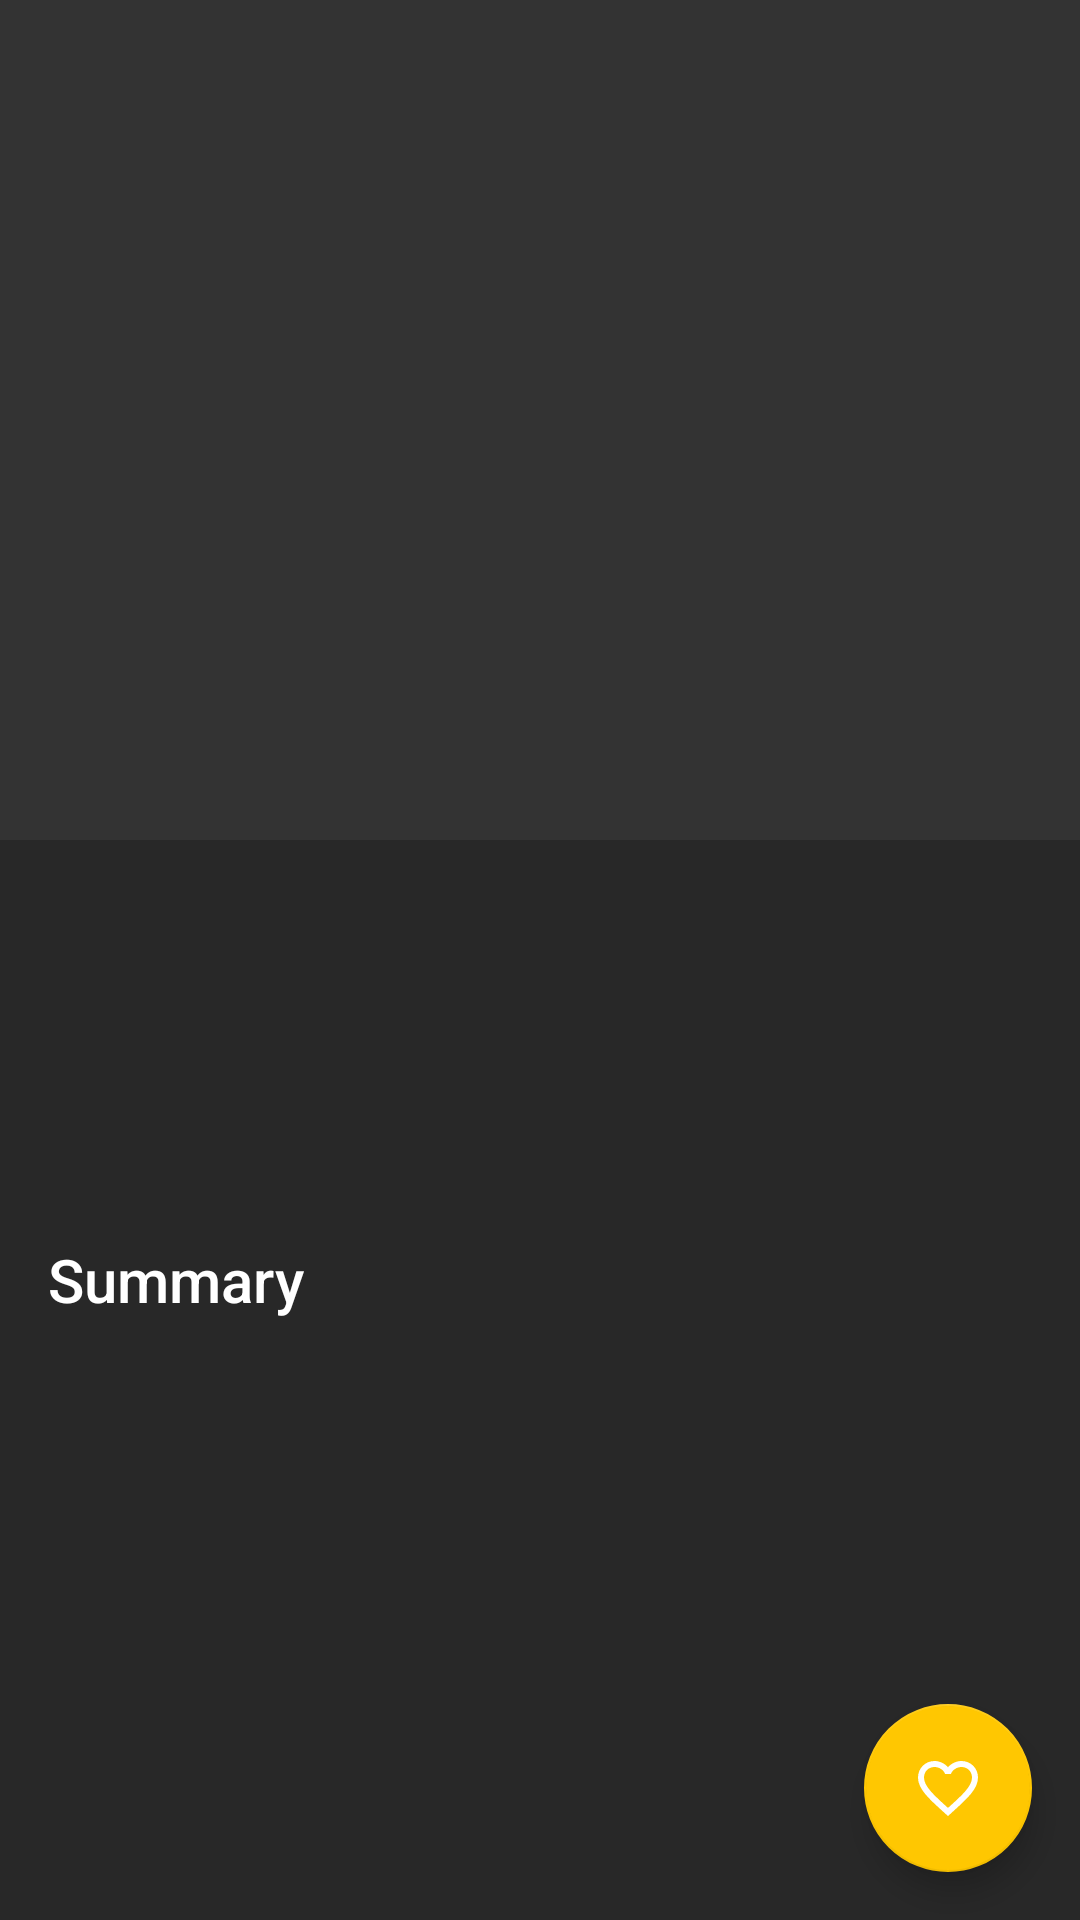

Locate icon controls on the screen. Image size 1080w x 1920h, boxes as (x1, y1, x2, y2).
favorite border: (864, 1704, 1032, 1872)
